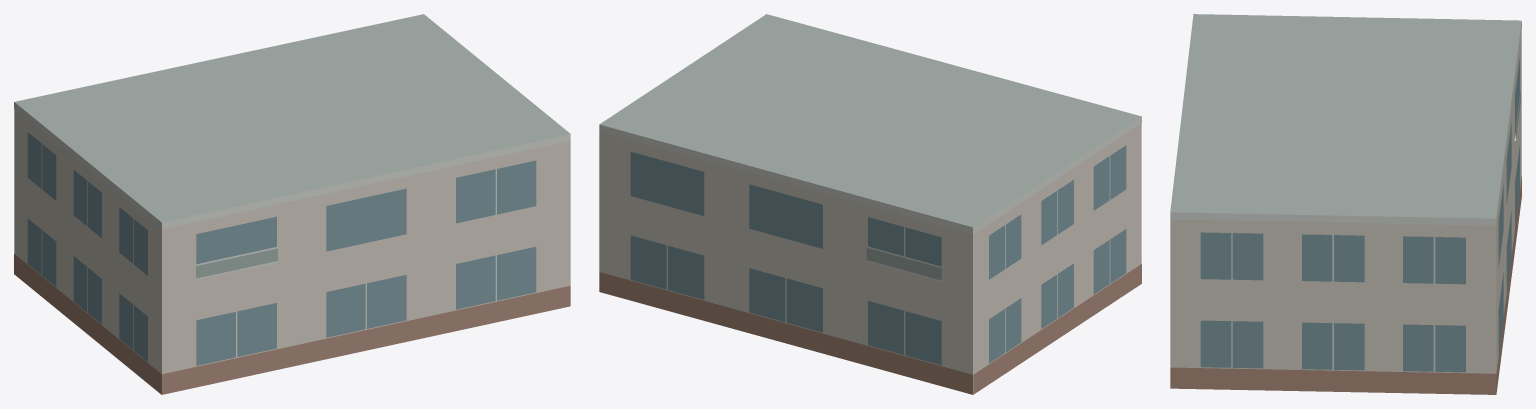
The model's file is survey-upis-32671933.glb.
3 renders of one model, left to right at view 1: azimuth 30°, elevation 25°; view 2: azimuth 150°, elevation 25°; view 3: azimuth 270°, elevation 25°, orthographic. The views are drawn at different scales.
Visible parts, largest first — view 1: survey-upis-32671933.tmp; view 2: survey-upis-32671933.tmp; view 3: survey-upis-32671933.tmp.
Boxes of the visible parts, x1,y1,x2,y2 form: survey-upis-32671933.tmp: (14, 14, 570, 394); survey-upis-32671933.tmp: (599, 14, 1141, 394); survey-upis-32671933.tmp: (1170, 14, 1521, 394).
Size of the model in its own units: 15.2 by 6.1 by 11.04.
